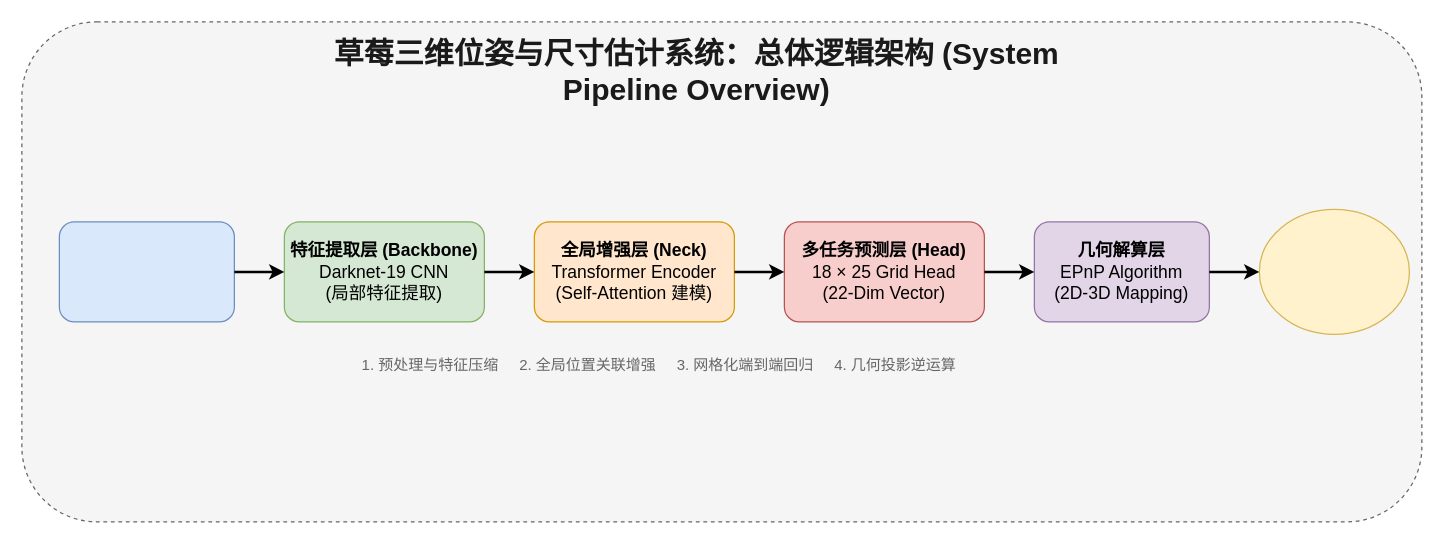
Some shapes in this 1444 by 544 pixel diagram are drawn without their labels. Here are the shapes that lost their labels. From the top down, the centre of each, then its label:
At point (146, 271): "图像输入层 Input Image (800 × 600 RGB)".
At point (1333, 271): "结果输出层 6D Pose & Size (x, y, z, R, L, W, H)".
